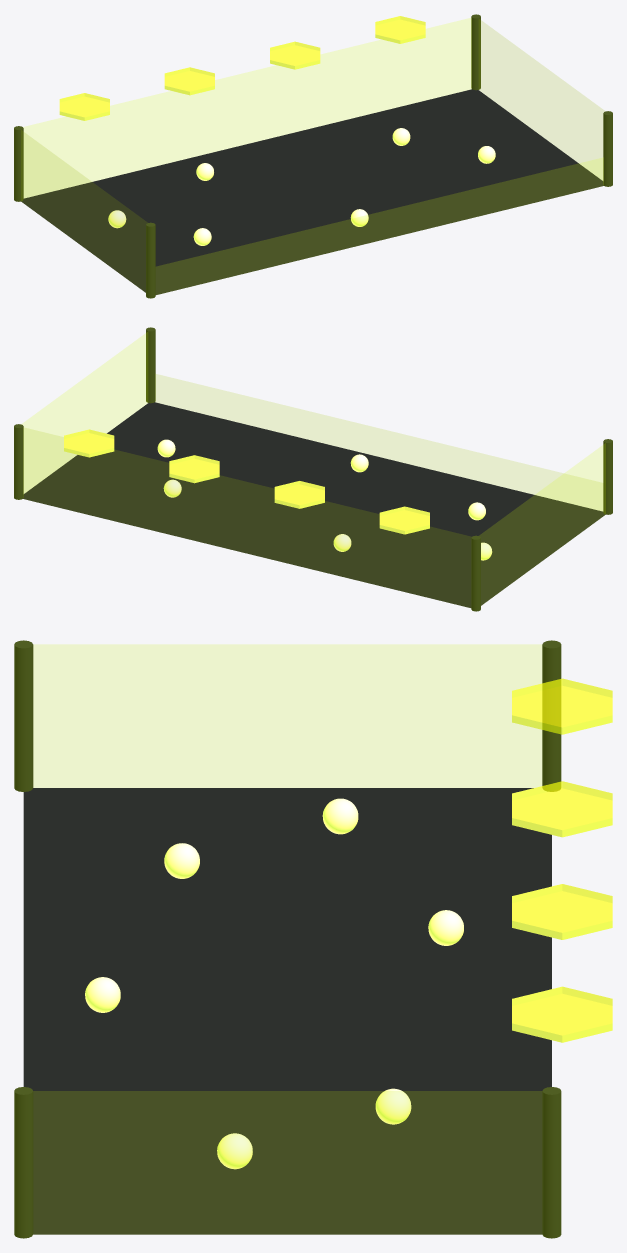
The model's file is qourt-hex-padel-court.glb.
3 views of the same model, one above another, from view 1: azimuth 30°, elevation 25°; view 2: azimuth 150°, elevation 25°; view 3: azimuth 270°, elevation 25° (orthographic). The views are drawn at different scales.
Size of the model in its own units: 20.36 by 3.18 by 11.33.
